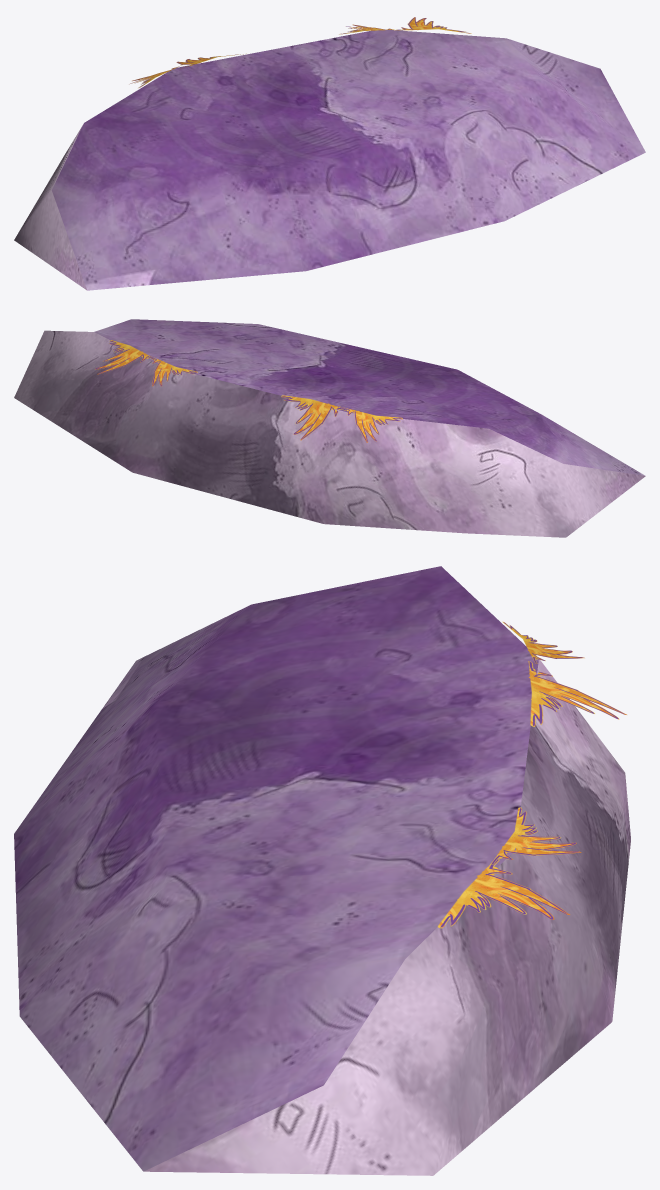
The model's file is entity217276.gltf.
The picture shows the model from 3 angles, top to bottom: view 1: azimuth 30°, elevation 25°; view 2: azimuth 150°, elevation 25°; view 3: azimuth 270°, elevation 25°; orthographic projection. The views are drawn at different scales.
Visible parts, largest first — view 1: node_Terrain_Amount_0127; view 2: node_Terrain_Amount_0127; view 3: node_Terrain_Amount_0127.
Boxes of the visible parts, box(x1,y1,x2,y2) form: node_Terrain_Amount_0127: box(14, 17, 645, 290); node_Terrain_Amount_0127: box(14, 319, 645, 537); node_Terrain_Amount_0127: box(14, 566, 630, 1175).
Size of what is drawn, in the model's own units: 8.75 by 1.6 by 4.53.
